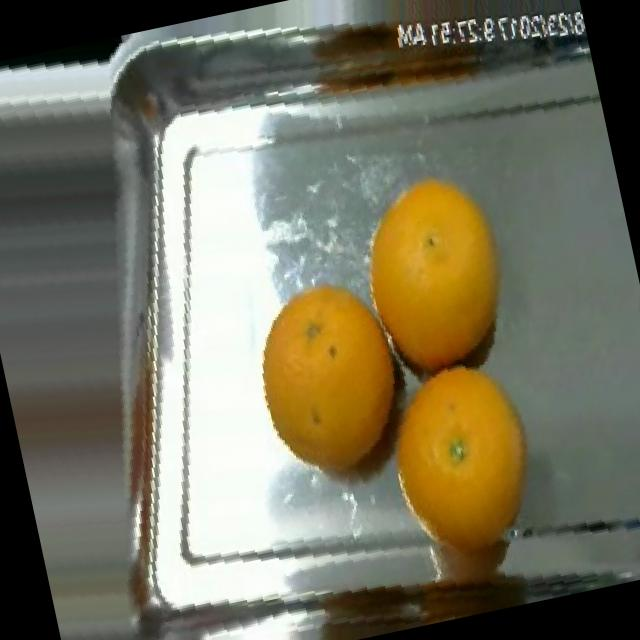Fruit: (332, 146, 538, 387), (226, 248, 431, 490)
